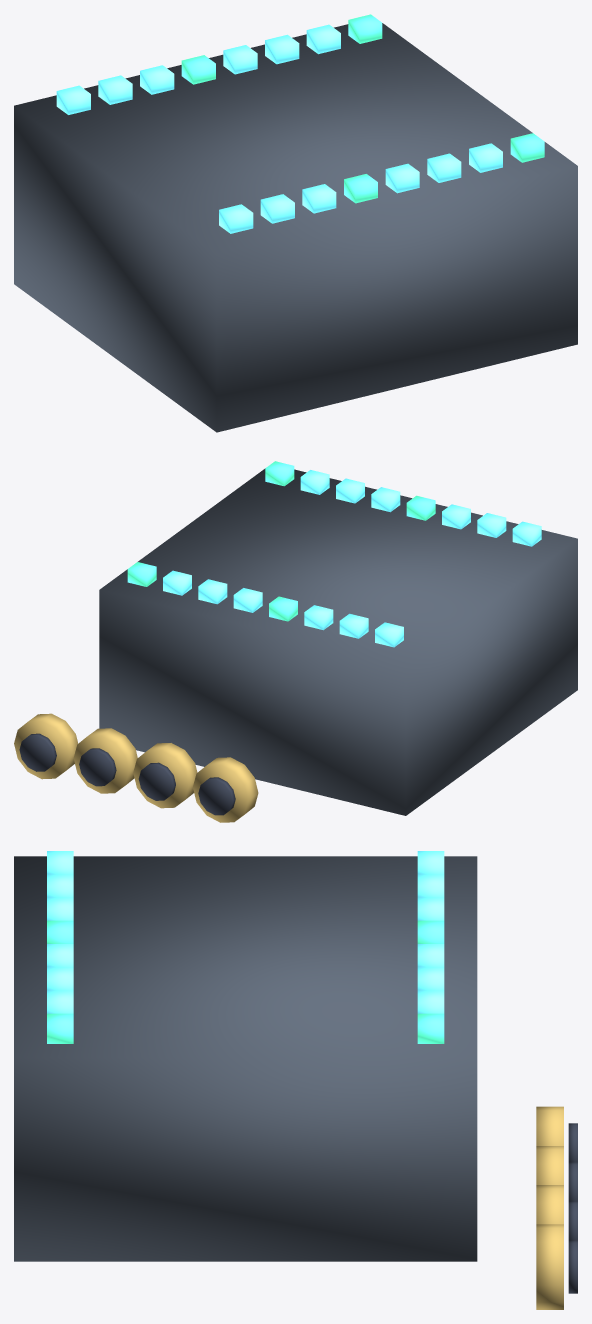
Rendered from L86_44_DualJawGripperPressureSensorArray_Fitted.fbx.
3 renders of one model, top to bottom at view 1: azimuth 30°, elevation 25°; view 2: azimuth 150°, elevation 25°; view 3: azimuth 270°, elevation 25°, orthographic. The views are drawn at different scales.
Visible parts, largest first — view 1: L86_DualJawGripperPressureSensorArray_ANIM_GRIP_CONTACT_SCAN (×3); view 2: L86_DualJawGripperPressureSensorArray_ANIM_GRIP_CONTACT_SCAN (×3), L86_DualJawGripperPressureSensorArray_Static__tintF2B038, L86_DualJawGripperPressureSensorArray_Static__tint0F141F; view 3: L86_DualJawGripperPressureSensorArray_ANIM_GRIP_CONTACT_SCAN (×3), L86_DualJawGripperPressureSensorArray_Static__tintF2B038, L86_DualJawGripperPressureSensorArray_Static__tint0F141F.
Part boxes in pixels (x1,y1,x2,y2): L86_DualJawGripperPressureSensorArray_ANIM_GRIP_CONTACT_SCAN (×3): (14,14,577,432); L86_DualJawGripperPressureSensorArray_ANIM_GRIP_CONTACT_SCAN (×3): (99,461,577,815); L86_DualJawGripperPressureSensorArray_Static__tintF2B038: (14,713,258,822); L86_DualJawGripperPressureSensorArray_Static__tint0F141F: (19,733,235,815); L86_DualJawGripperPressureSensorArray_ANIM_GRIP_CONTACT_SCAN (×3): (14,851,477,1261); L86_DualJawGripperPressureSensorArray_Static__tintF2B038: (536,1106,563,1309); L86_DualJawGripperPressureSensorArray_Static__tint0F141F: (568,1123,577,1293).
Bounding box in the file's own units: 8.11 × 4.04 × 8.18.
